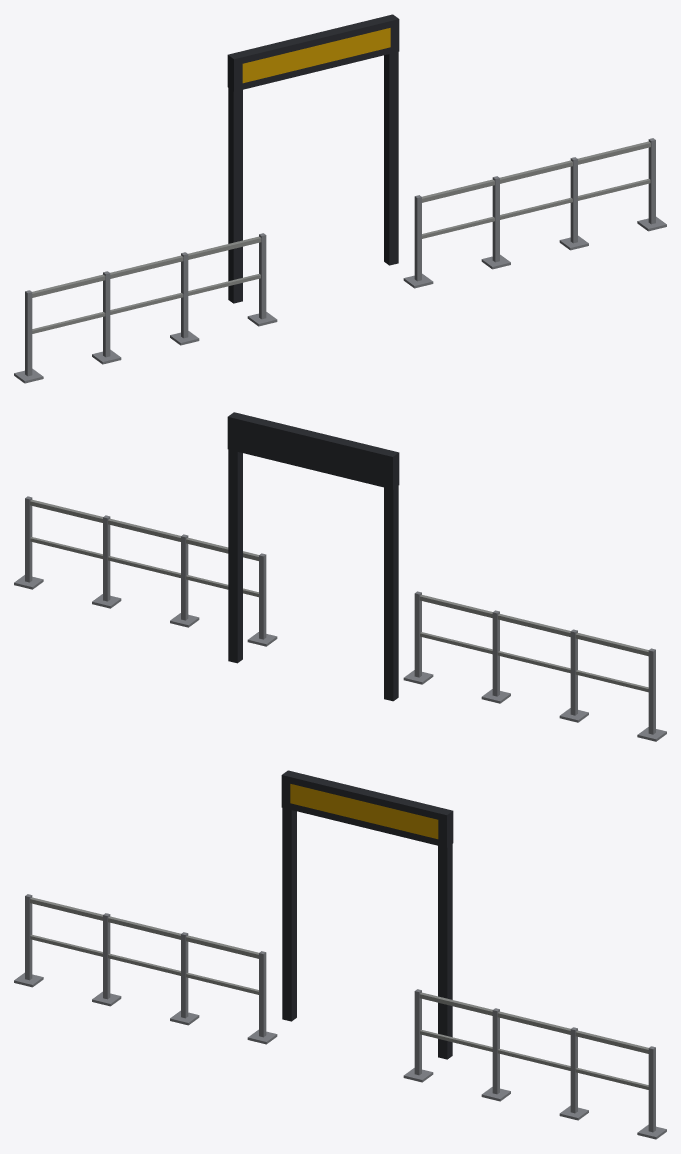
Rendered from prop_arrivals-rail.glb.
3 renders of one model, top to bottom at view 1: azimuth 30°, elevation 25°; view 2: azimuth 150°, elevation 25°; view 3: azimuth 330°, elevation 25°, orthographic.
Parts seen in each view (by area): view 1: body; view 2: body; view 3: body.
Part boxes in pixels (box(x1,y1,x2,y2)): body: box(14, 14, 666, 383); body: box(14, 412, 666, 741); body: box(14, 770, 666, 1139).
Bounding box in the file's own units: 8.24 × 3 × 0.7899.
